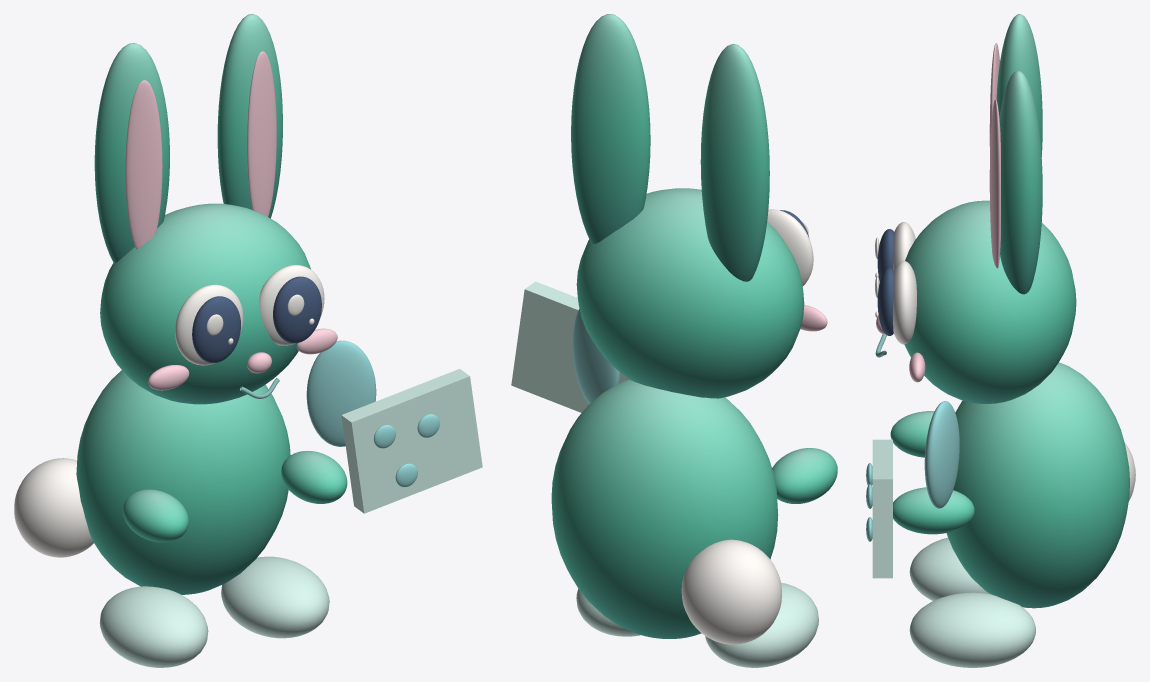
Rendered from marketing-social-media-manager.glb.
3 views of the same model, side by side, from view 1: azimuth 30°, elevation 25°; view 2: azimuth 150°, elevation 25°; view 3: azimuth 270°, elevation 25° (orthographic). The views are drawn at different scales.
Parts seen in each view (by area): view 1: Compact rabbit torso, Rabbit head, Sculpted display panel, Tall leaflike rabbit ear, Tall leaflike rabbit ear.001, Grounded foot, Grounded foot.001, Cotton rabbit tail, Ear lining, Social sprig leaf, Ear lining.001, Posed paw (+7 smaller); view 2: Compact rabbit torso, Rabbit head, Tall leaflike rabbit ear.001, Tall leaflike rabbit ear, Cotton rabbit tail, Sculpted display panel, Grounded foot, Posed paw, Social sprig leaf, Sclera -1, Grounded foot.001, Soft cheek; view 3: Compact rabbit torso, Rabbit head, Tall leaflike rabbit ear.001, Grounded foot.001, Social sprig leaf, Sculpted display panel, Grounded foot, Posed paw.001, Tall leaflike rabbit ear, Sclera 1, Ear lining.001, Posed paw (+4 smaller).
Part boxes in pixels (left/top/right/bottom): Compact rabbit torso: left=76, top=370, right=290, bottom=594; Rabbit head: left=100, top=203, right=310, bottom=404; Sculpted display panel: left=341, top=369, right=482, bottom=513; Tall leaflike rabbit ear: left=94, top=43, right=169, bottom=263; Tall leaflike rabbit ear.001: left=217, top=14, right=282, bottom=218; Grounded foot: left=99, top=586, right=208, bottom=667; Grounded foot.001: left=221, top=556, right=329, bottom=638; Cotton rabbit tail: left=14, top=458, right=93, bottom=557; Ear lining: left=125, top=80, right=162, bottom=249; Social sprig leaf: left=306, top=340, right=376, bottom=446; Ear lining.001: left=247, top=51, right=276, bottom=216; Posed paw: left=123, top=489, right=188, bottom=542; Compact rabbit torso: left=551, top=379, right=778, bottom=638; Rabbit head: left=576, top=188, right=804, bottom=398; Tall leaflike rabbit ear.001: left=571, top=14, right=650, bottom=244; Tall leaflike rabbit ear: left=700, top=44, right=769, bottom=281; Cotton rabbit tail: left=681, top=539, right=781, bottom=644; Sculpted display panel: left=511, top=281, right=629, bottom=412; Grounded foot: left=705, top=582, right=818, bottom=667; Posed paw: left=772, top=448, right=837, bottom=503; Social sprig leaf: left=573, top=308, right=620, bottom=404; Sclera -1: left=767, top=209, right=813, bottom=286; Grounded foot.001: left=576, top=589, right=640, bottom=636; Soft cheek: left=800, top=305, right=827, bottom=331; Compact rabbit torso: left=946, top=362, right=1129, bottom=608; Rabbit head: left=904, top=200, right=1076, bottom=403; Tall leaflike rabbit ear.001: left=999, top=70, right=1042, bottom=294; Grounded foot.001: left=909, top=592, right=1035, bottom=667; Social sprig leaf: left=924, top=401, right=959, bottom=508; Sculpted display panel: left=872, top=439, right=892, bottom=578; Grounded foot: left=909, top=537, right=989, bottom=600; Posed paw.001: left=893, top=487, right=974, bottom=534; Tall leaflike rabbit ear: left=996, top=14, right=1042, bottom=156; Sclera 1: left=893, top=261, right=916, bottom=344; Ear lining.001: left=989, top=99, right=1000, bottom=268; Posed paw: left=890, top=411, right=934, bottom=457.
Size of the model in its own units: 2.09 by 3.39 by 1.41.
7 materials, 1 textured.
